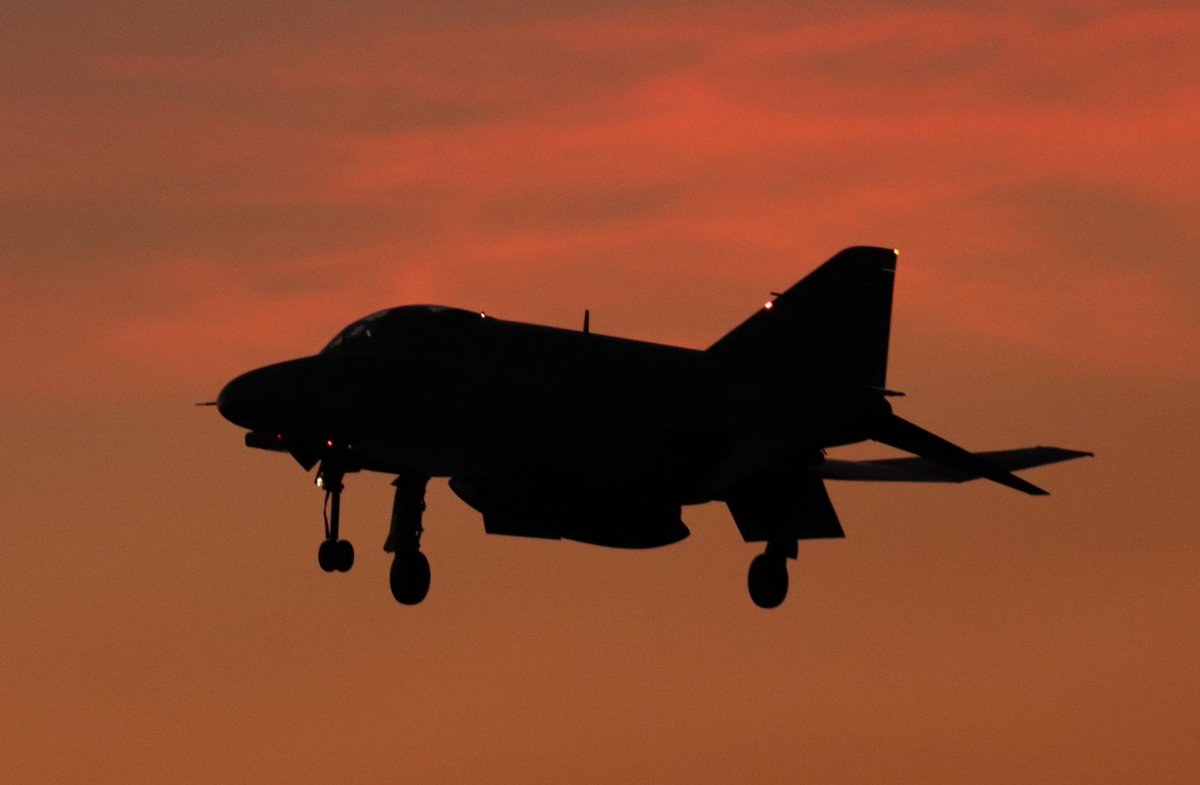F4: (194, 244, 1096, 610)
